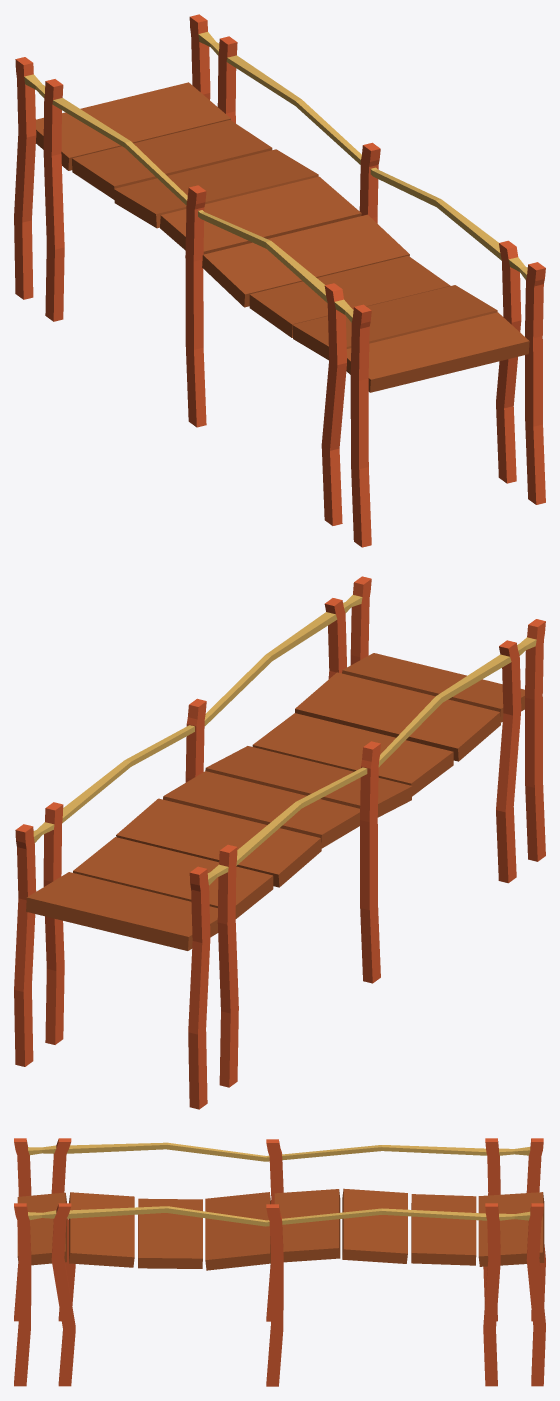
Rendered from Bridge.fbx.
The picture shows the model from 3 angles, top to bottom: view 1: azimuth 30°, elevation 25°; view 2: azimuth 150°, elevation 25°; view 3: azimuth 270°, elevation 25°; orthographic projection. The views are drawn at different scales.
Parts seen in each view (by area): view 1: Bridge; view 2: Bridge; view 3: Bridge.
Boxes of the visible parts, <box> form: Bridge: <box>14,14,545,547</box>; Bridge: <box>14,576,545,1109</box>; Bridge: <box>14,1138,545,1386</box>.
Bounding box in the file's own units: 261 × 320 × 857.
